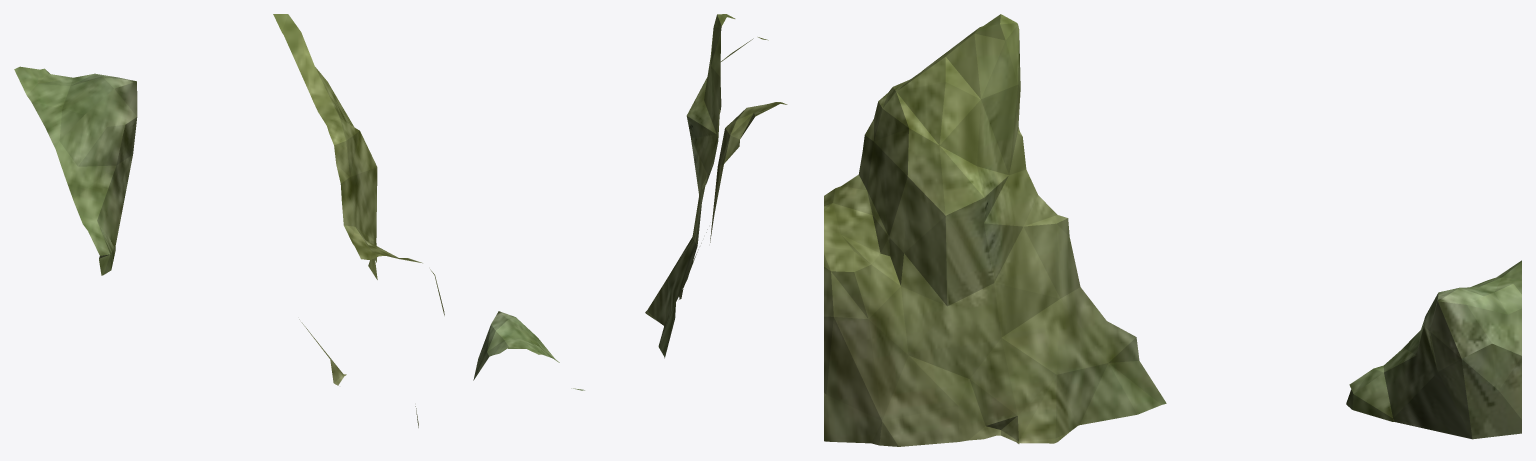
3 renders of one model, left to right at view 1: azimuth 30°, elevation 25°; view 2: azimuth 150°, elevation 25°; view 3: azimuth 270°, elevation 25°, orthographic. The views are drawn at different scales.
Bounding box in the file's own units: 0.4546 × 1.82 × 2.95.
Materials: 1 (1 with a texture image).
